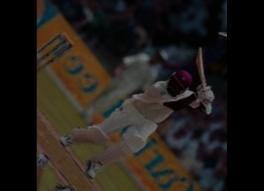batsman: (59, 66, 224, 191)
